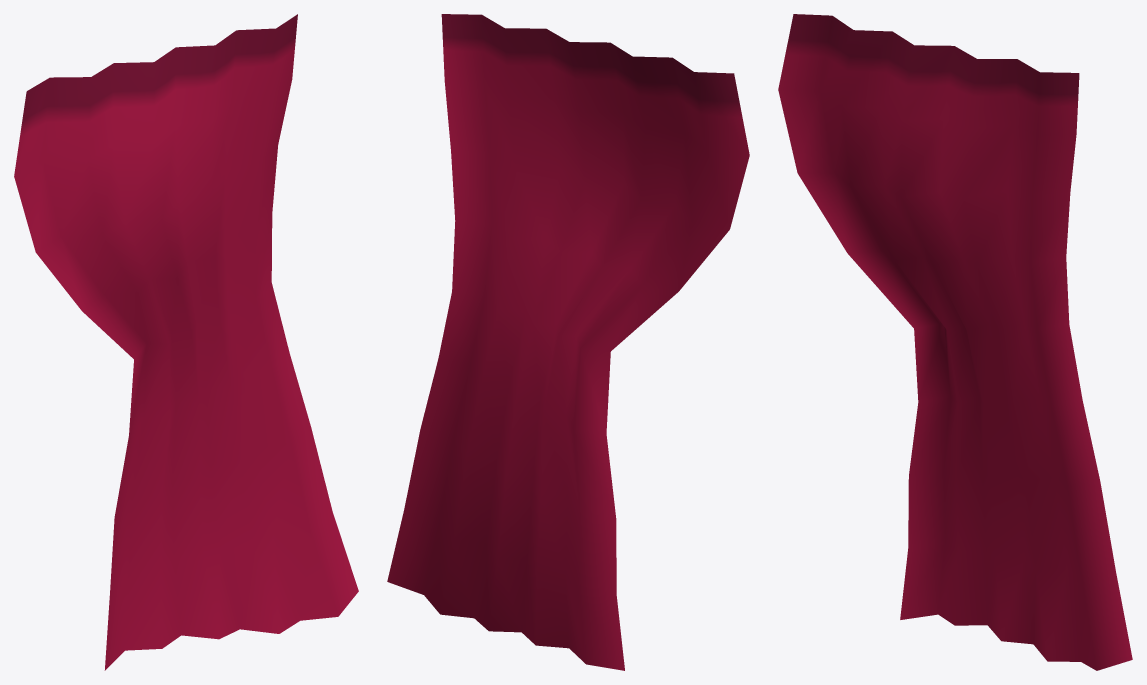
File: CortinaAgarrada.fbx
The picture shows the model from 3 angles, left to right: view 1: azimuth 30°, elevation 25°; view 2: azimuth 150°, elevation 25°; view 3: azimuth 330°, elevation 25°; orthographic projection. The views are drawn at different scales.
Parts seen in each view (by area): view 1: CortinaAgarrada; view 2: CortinaAgarrada; view 3: CortinaAgarrada.
Boxes of the visible parts, x1=… form: CortinaAgarrada: x1=14, y1=14, x2=358, y2=670; CortinaAgarrada: x1=387, y1=14, x2=749, y2=670; CortinaAgarrada: x1=778, y1=14, x2=1132, y2=670.
Size of the model in its own units: 321 by 530 by 61.49.
Materials: 1 (1 with a texture image).
